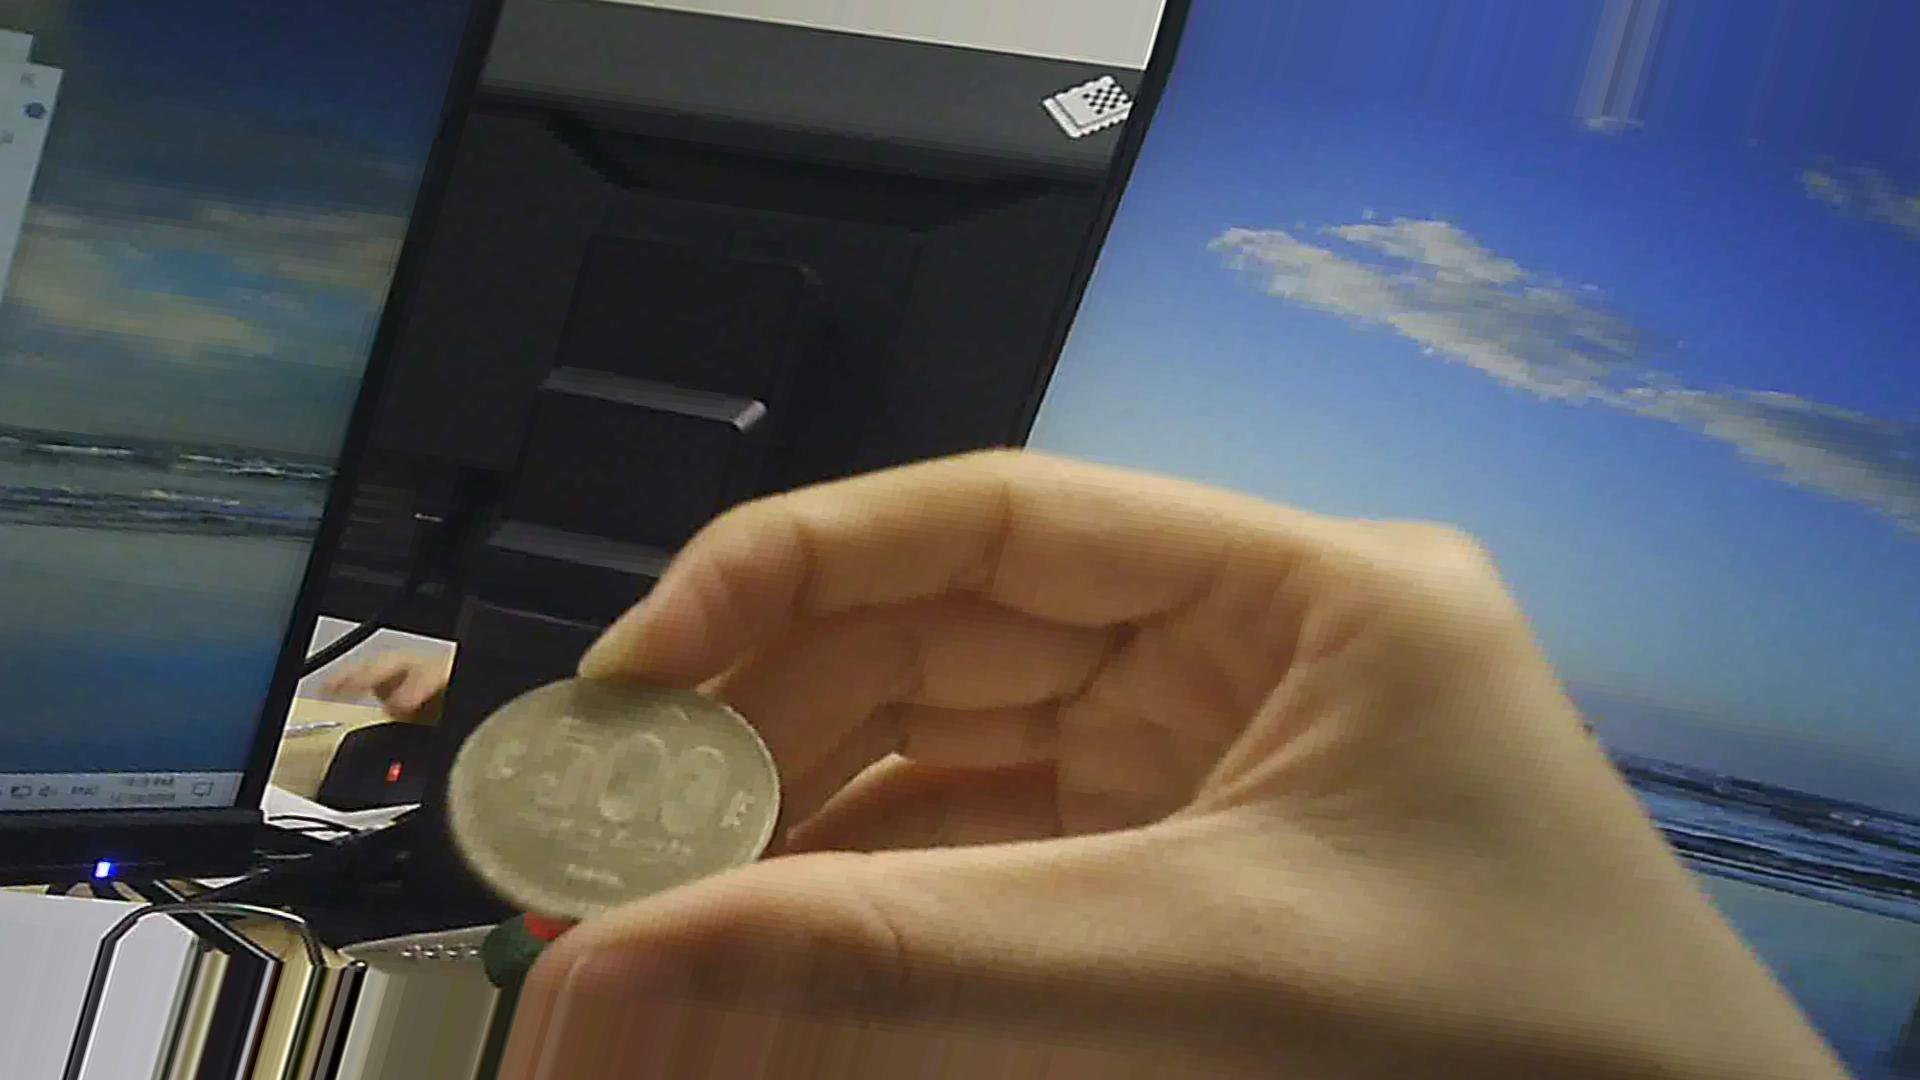500 Yen: (430, 665, 779, 926)
